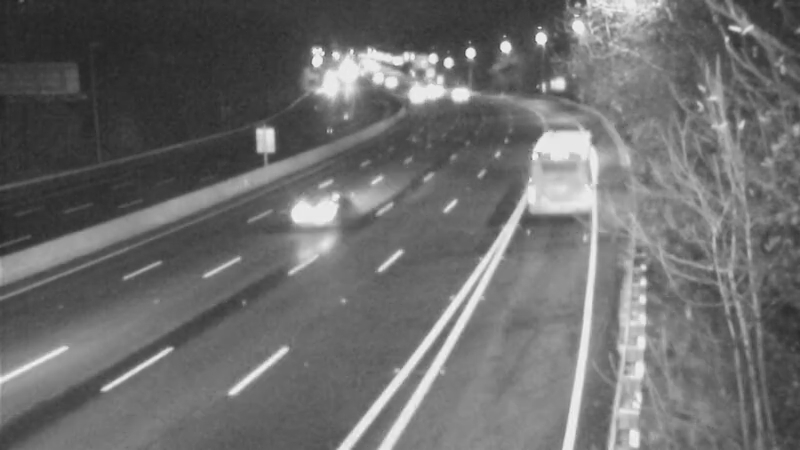vehicle: (515, 135, 595, 215), (273, 173, 353, 253), (367, 56, 417, 106), (343, 51, 393, 101), (413, 65, 463, 115), (392, 70, 442, 120), (436, 67, 486, 117)
